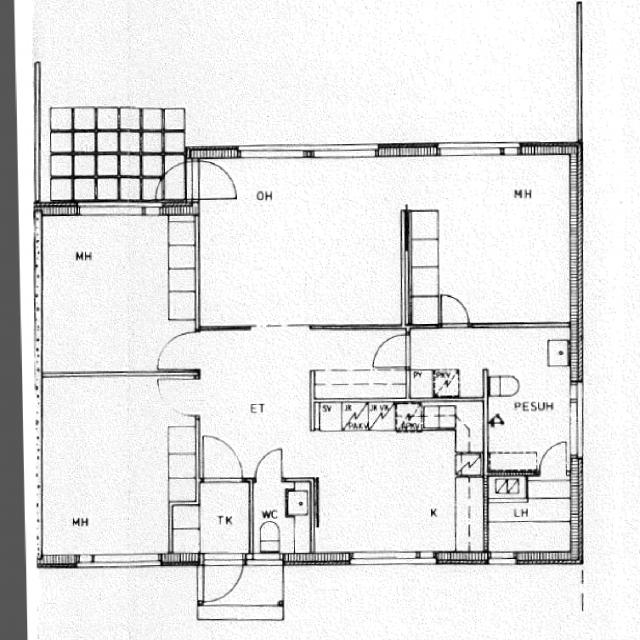door: (148, 160, 199, 200), (187, 160, 237, 200), (205, 552, 242, 602), (204, 441, 242, 482), (159, 333, 199, 370), (160, 380, 199, 416), (374, 334, 409, 367), (255, 452, 282, 482), (540, 445, 566, 476), (442, 300, 468, 330)
